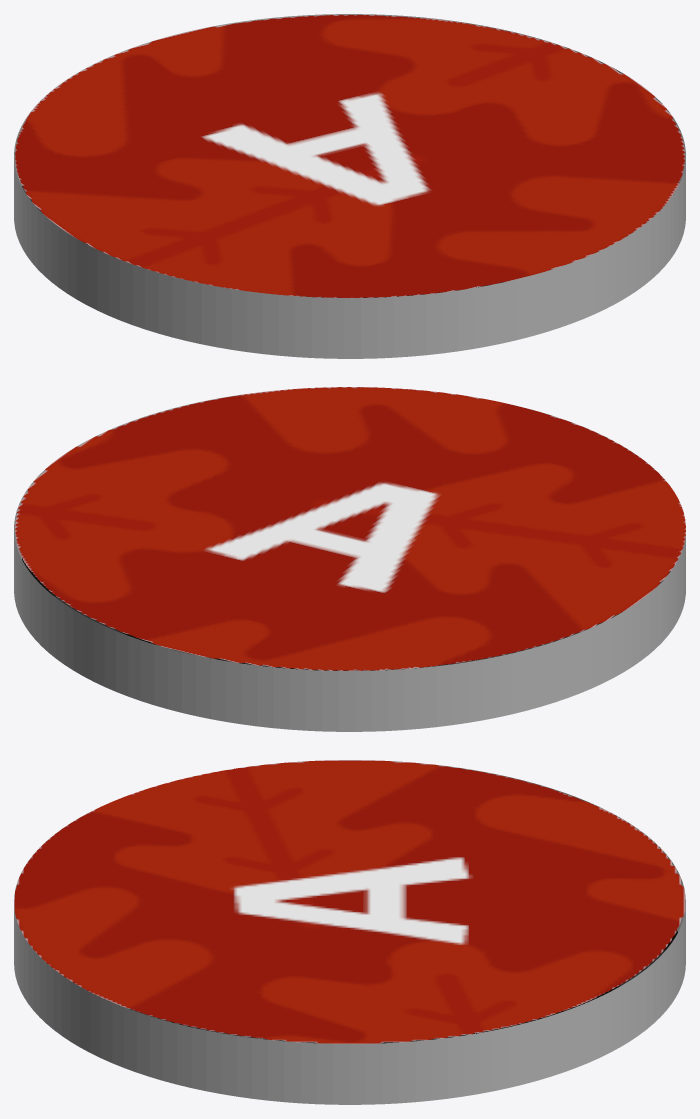
File: Chit.obj
3 renders of one model, top to bottom at view 1: azimuth 30°, elevation 25°; view 2: azimuth 150°, elevation 25°; view 3: azimuth 270°, elevation 25°, orthographic.
Parts seen in each view (by area): view 1: Cube; view 2: Cube; view 3: Cube.
Part boxes in pixels (x1,y1,x2,y2): Cube: [14, 14, 685, 358]; Cube: [14, 387, 685, 731]; Cube: [14, 760, 685, 1104].
Bounding box in the file's own units: 0.5 × 0.05 × 0.5.
